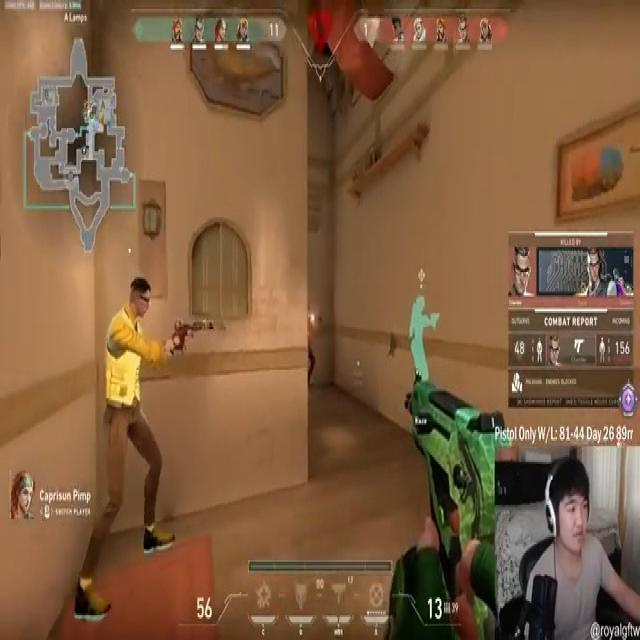ally: (75, 265, 190, 628)
ally behind wall: (406, 287, 441, 393)
